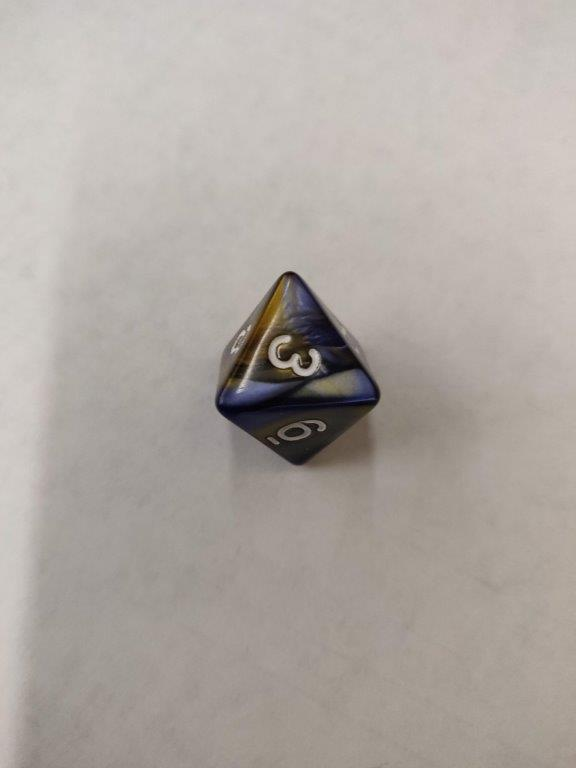d8-3: (213, 270, 383, 470)
